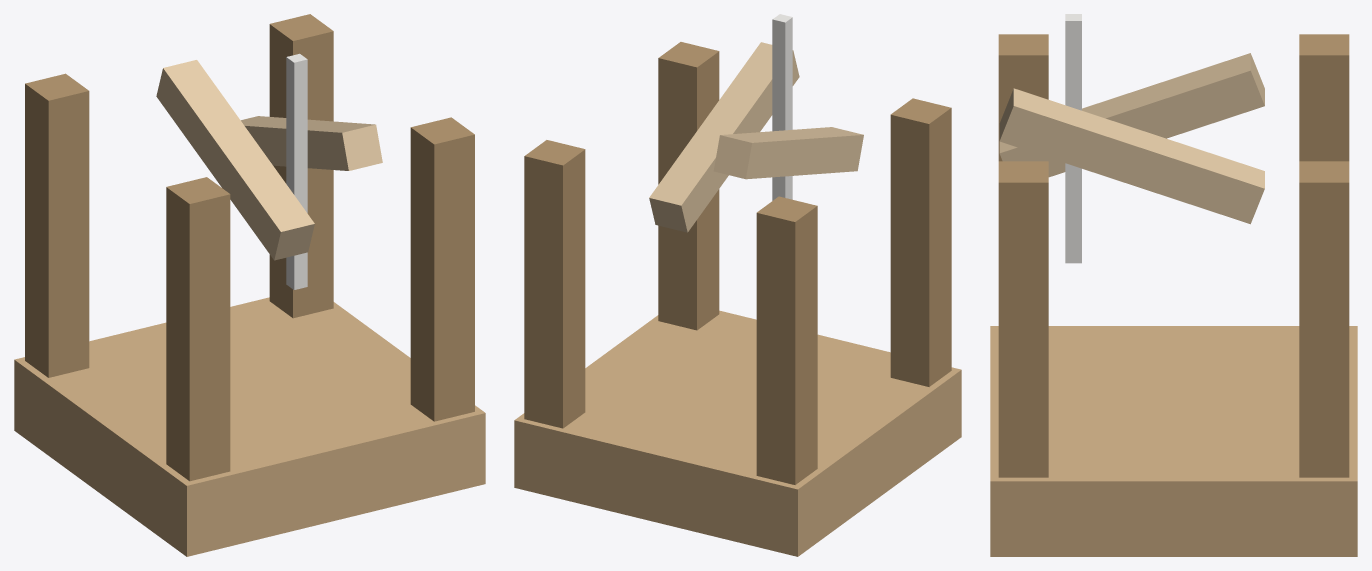
Rendered from SM_Weapon_ArrowTower_01.glb.
3 renders of one model, left to right at view 1: azimuth 30°, elevation 25°; view 2: azimuth 150°, elevation 25°; view 3: azimuth 270°, elevation 25°, orthographic. The views are drawn at different scales.
Visible parts, largest first — view 1: SM_ArrowTower_Plat, SM_ArrowTower_Post.001, SM_ArrowTower_Post, SM_ArrowTower_Post.002, SM_ArrowTower_BowL, SM_ArrowTower_Post.003, SM_ArrowTower_BowR, SM_ArrowTower_String; view 2: SM_ArrowTower_Plat, SM_ArrowTower_Post, SM_ArrowTower_Post.003, SM_ArrowTower_Post.002, SM_ArrowTower_Post.001, SM_ArrowTower_BowR, SM_ArrowTower_BowL, SM_ArrowTower_String; view 3: SM_ArrowTower_Plat, SM_ArrowTower_Post.001, SM_ArrowTower_Post.003, SM_ArrowTower_BowR, SM_ArrowTower_BowL, SM_ArrowTower_Post.002, SM_ArrowTower_Post, SM_ArrowTower_String.
Part boxes in pixels (<box>): SM_ArrowTower_Plat: <box>14,297,485,556</box>; SM_ArrowTower_Post.001: <box>410,117,474,421</box>; SM_ArrowTower_Post: <box>166,177,230,481</box>; SM_ArrowTower_Post.002: <box>25,73,89,377</box>; SM_ArrowTower_BowL: <box>156,60,314,260</box>; SM_ArrowTower_Post.003: <box>269,14,333,318</box>; SM_ArrowTower_BowR: <box>241,116,382,170</box>; SM_ArrowTower_String: <box>286,53,307,289</box>; SM_ArrowTower_Plat: <box>514,310,961,556</box>; SM_ArrowTower_Post: <box>890,98,951,386</box>; SM_ArrowTower_Post.003: <box>524,140,585,428</box>; SM_ArrowTower_Post.002: <box>756,196,817,484</box>; SM_ArrowTower_Post.001: <box>658,42,719,330</box>; SM_ArrowTower_BowR: <box>649,42,799,232</box>; SM_ArrowTower_BowL: <box>713,127,863,179</box>; SM_ArrowTower_String: <box>772,14,792,200</box>; SM_ArrowTower_Plat: <box>990,326,1357,556</box>; SM_ArrowTower_Post.001: <box>998,161,1048,477</box>; SM_ArrowTower_Post.003: <box>1299,161,1349,477</box>; SM_ArrowTower_BowR: <box>999,88,1264,224</box>; SM_ArrowTower_BowL: <box>999,53,1264,177</box>; SM_ArrowTower_Post.002: <box>1299,34,1349,161</box>; SM_ArrowTower_Post: <box>998,34,1048,161</box>; SM_ArrowTower_String: <box>1065,14,1081,263</box>.
Size of the model in its own units: 0.44 by 0.61 by 0.44.
